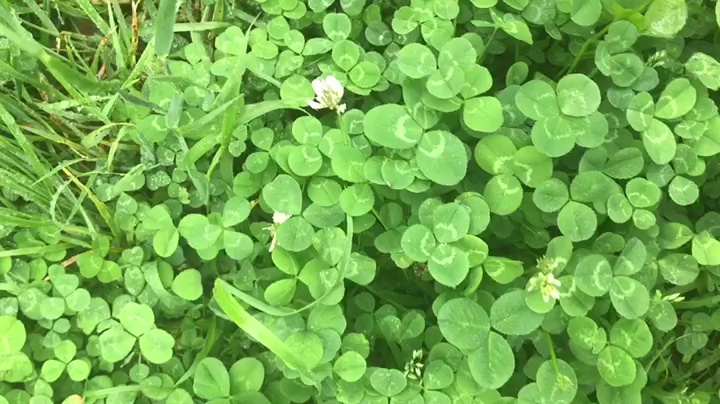4-clover: (516, 72, 608, 158)
